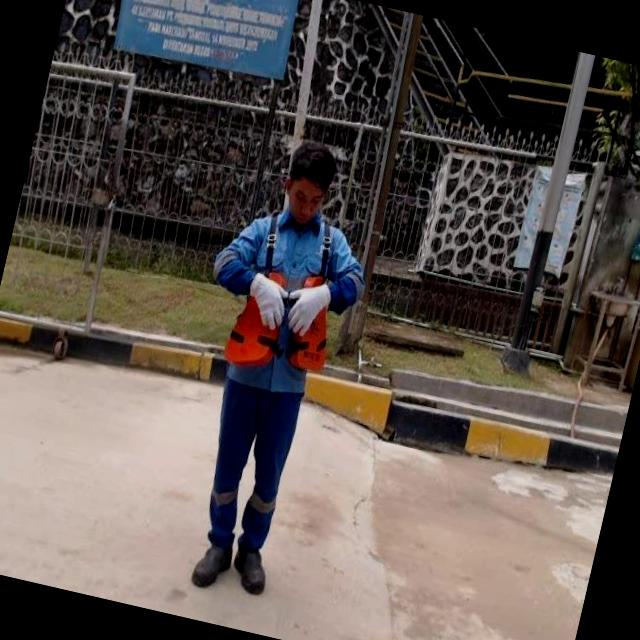vest: (223, 264, 342, 378)
